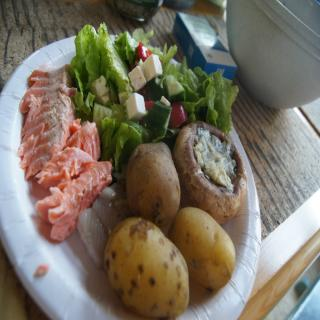Potato: (104, 215, 190, 320), (173, 207, 235, 290), (127, 142, 182, 228)
